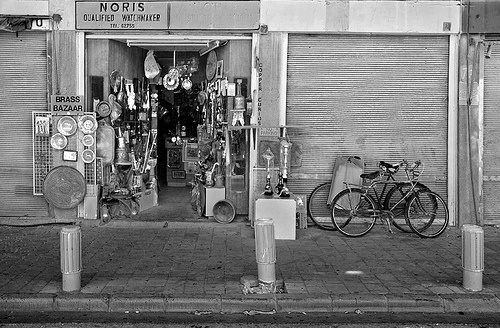non-vehicle: (305, 160, 435, 232), (331, 159, 449, 237)
